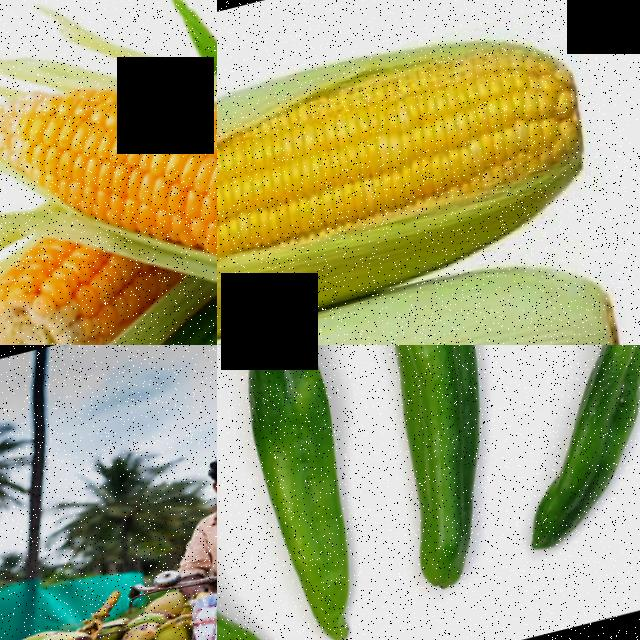chilli: (301, 345, 575, 613), (217, 345, 442, 640), (439, 345, 640, 563), (217, 345, 327, 640)
corn: (217, 13, 609, 312), (3, 49, 217, 274), (0, 224, 157, 345)
